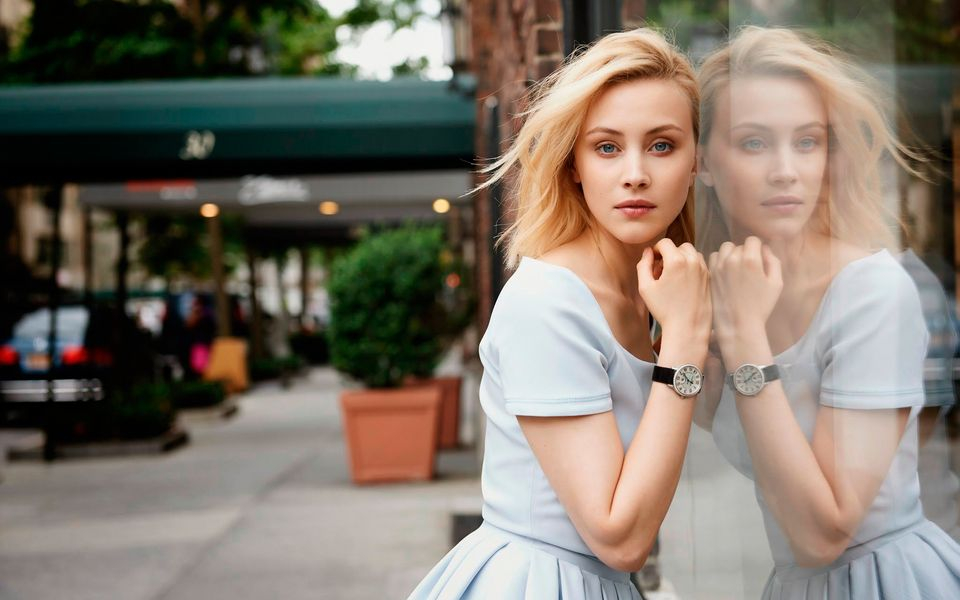person: (378, 26, 716, 538)
